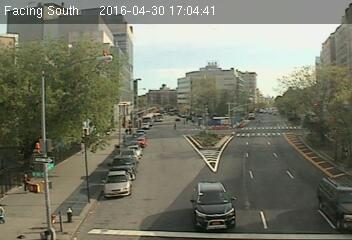neg: (161, 132, 187, 166), (278, 67, 303, 101), (293, 112, 316, 143), (186, 182, 209, 212), (40, 50, 62, 79), (101, 148, 122, 176), (65, 198, 85, 225), (115, 110, 135, 137), (206, 116, 223, 139), (114, 54, 131, 77), (32, 156, 49, 178), (175, 54, 191, 75), (224, 57, 239, 77), (261, 134, 276, 153), (79, 129, 93, 148), (262, 187, 275, 205)
